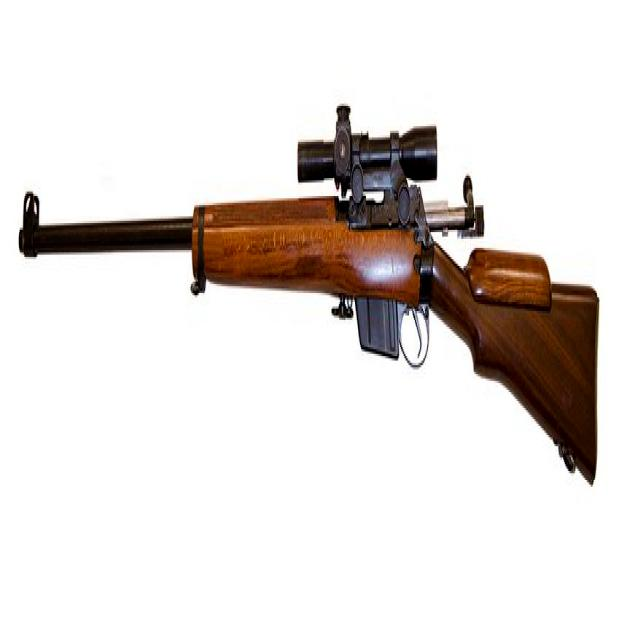rifle: (12, 93, 605, 507)
